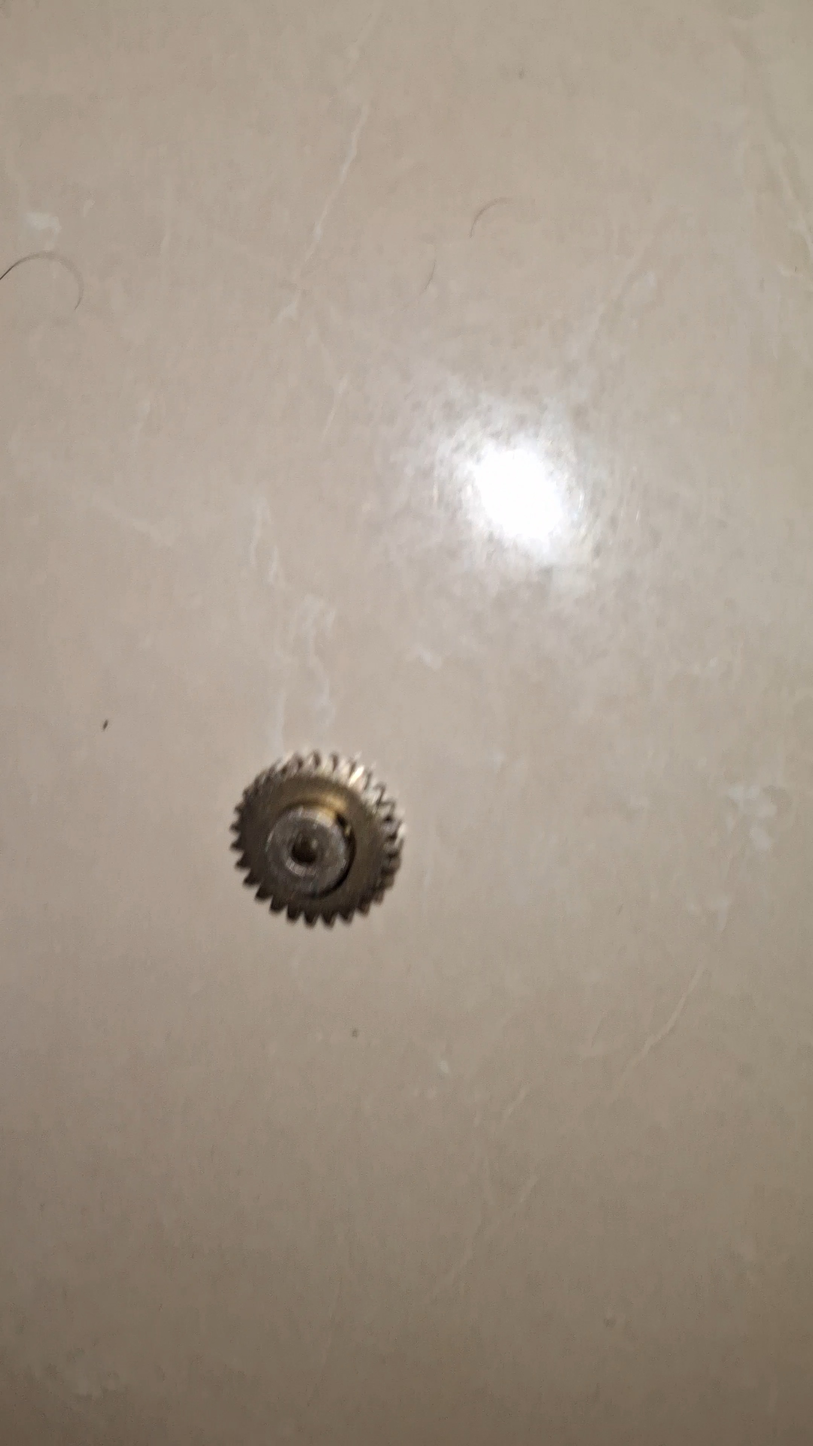spur gear: (232, 752, 402, 925)
